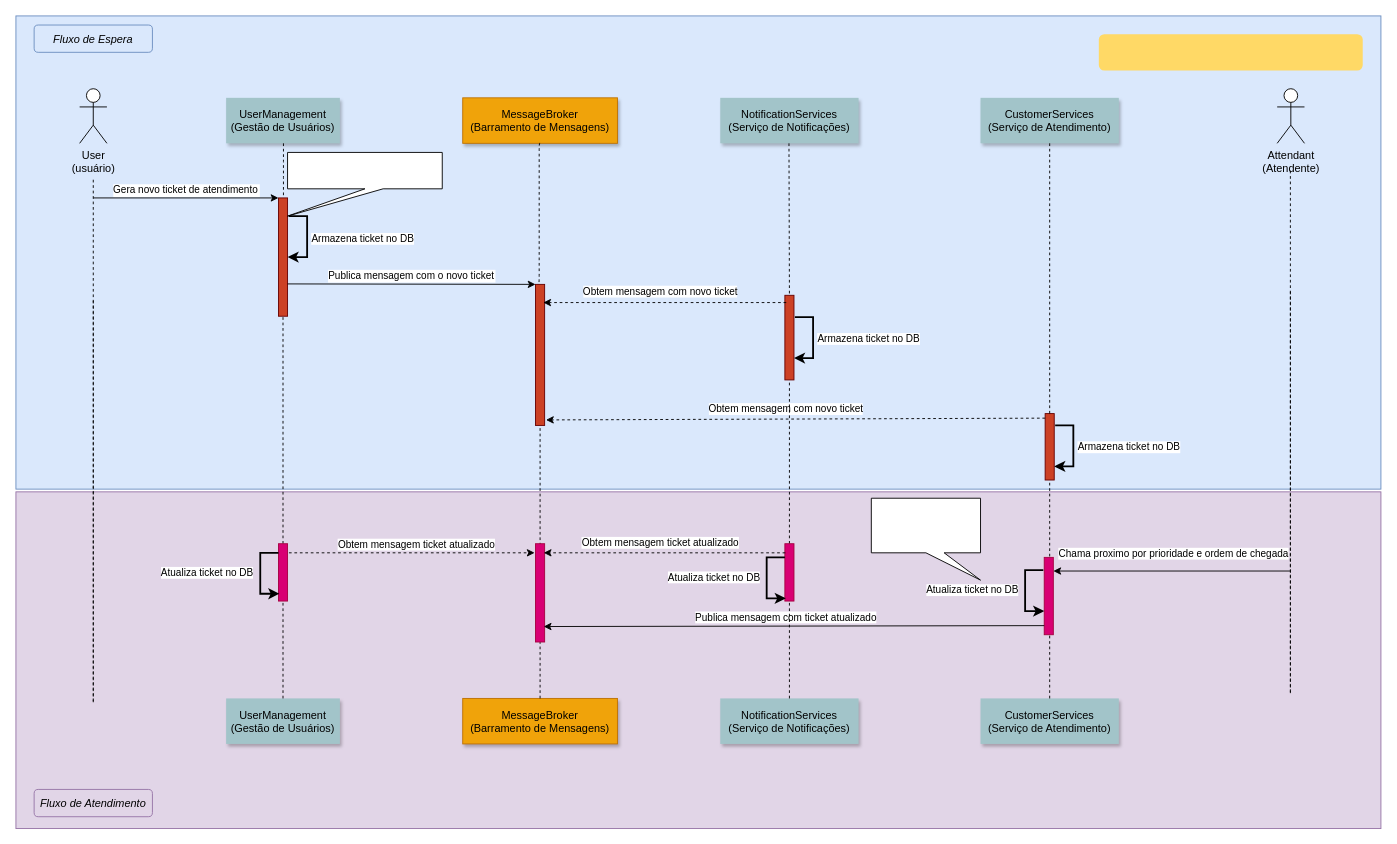
Image size: 1397x844. Some labels were removed from this diagram. The centre of each missing label's shape, as x and y in pixels:
O ticket é atualizado com status (Chamado): point (925, 538)
O ticket é gerado com status (Aguardando): point (364, 184)
sq customer services (serviço de atendimento): point (1230, 52)
